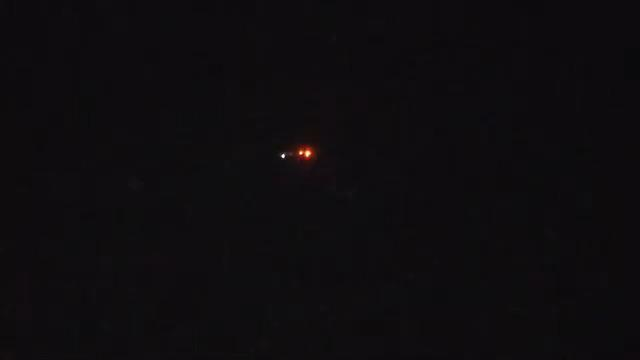Plane: (261, 143, 338, 167)
